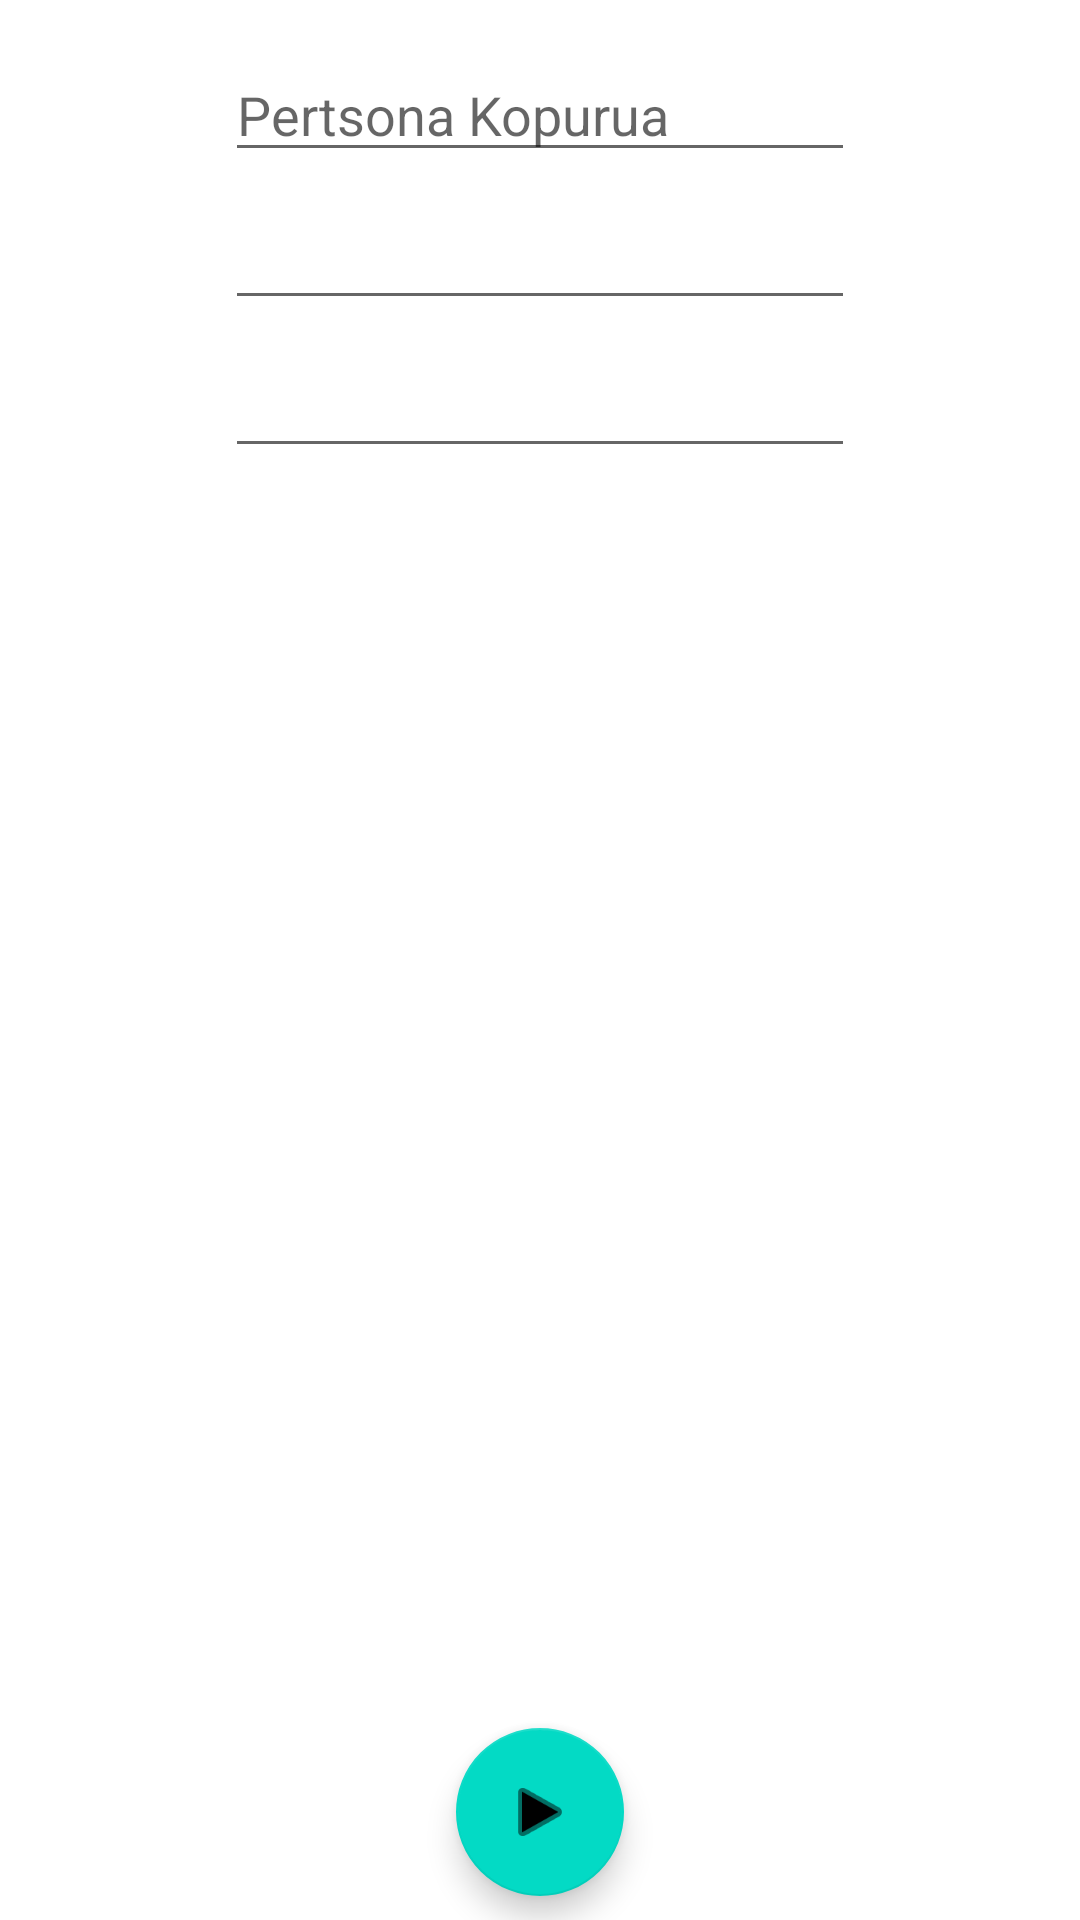

Icon bounding boxes for this 1080 x 1920 phone screenshot, format (x1, y1, x2, y2):
Play button: (456, 1728, 624, 1896)
